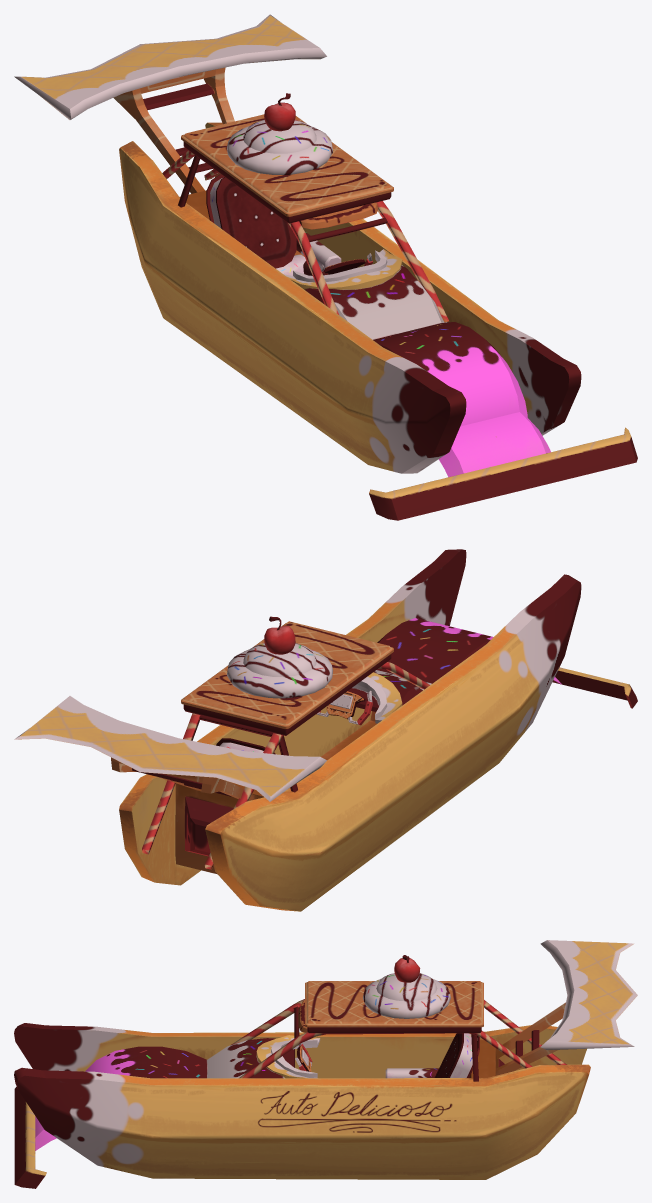
3 views of the same model, one above another, from view 1: azimuth 30°, elevation 25°; view 2: azimuth 150°, elevation 25°; view 3: azimuth 270°, elevation 25° (orthographic). The views are drawn at different scales.
Parts seen in each view (by area): view 1: cro_#10, ale_#10, sil_#10; view 2: cro_#10, ale_#10, vol_#10; view 3: cro_#10, ale_#10, sil_#10.
Part boxes in pixels (left/top/right/bottom): cro_#10: left=119, top=93, right=637, bottom=520; ale_#10: left=14, top=14, right=326, bottom=193; sil_#10: left=206, top=174, right=341, bottom=275; cro_#10: left=119, top=549, right=637, bottom=911; ale_#10: left=14, top=696, right=326, bottom=801; vol_#10: left=316, top=690, right=372, bottom=725; cro_#10: left=14, top=955, right=590, bottom=1188; ale_#10: left=495, top=940, right=637, bottom=1075; sil_#10: left=385, top=1033, right=479, bottom=1078.
Size of the model in its own units: 151 by 136 by 382.
